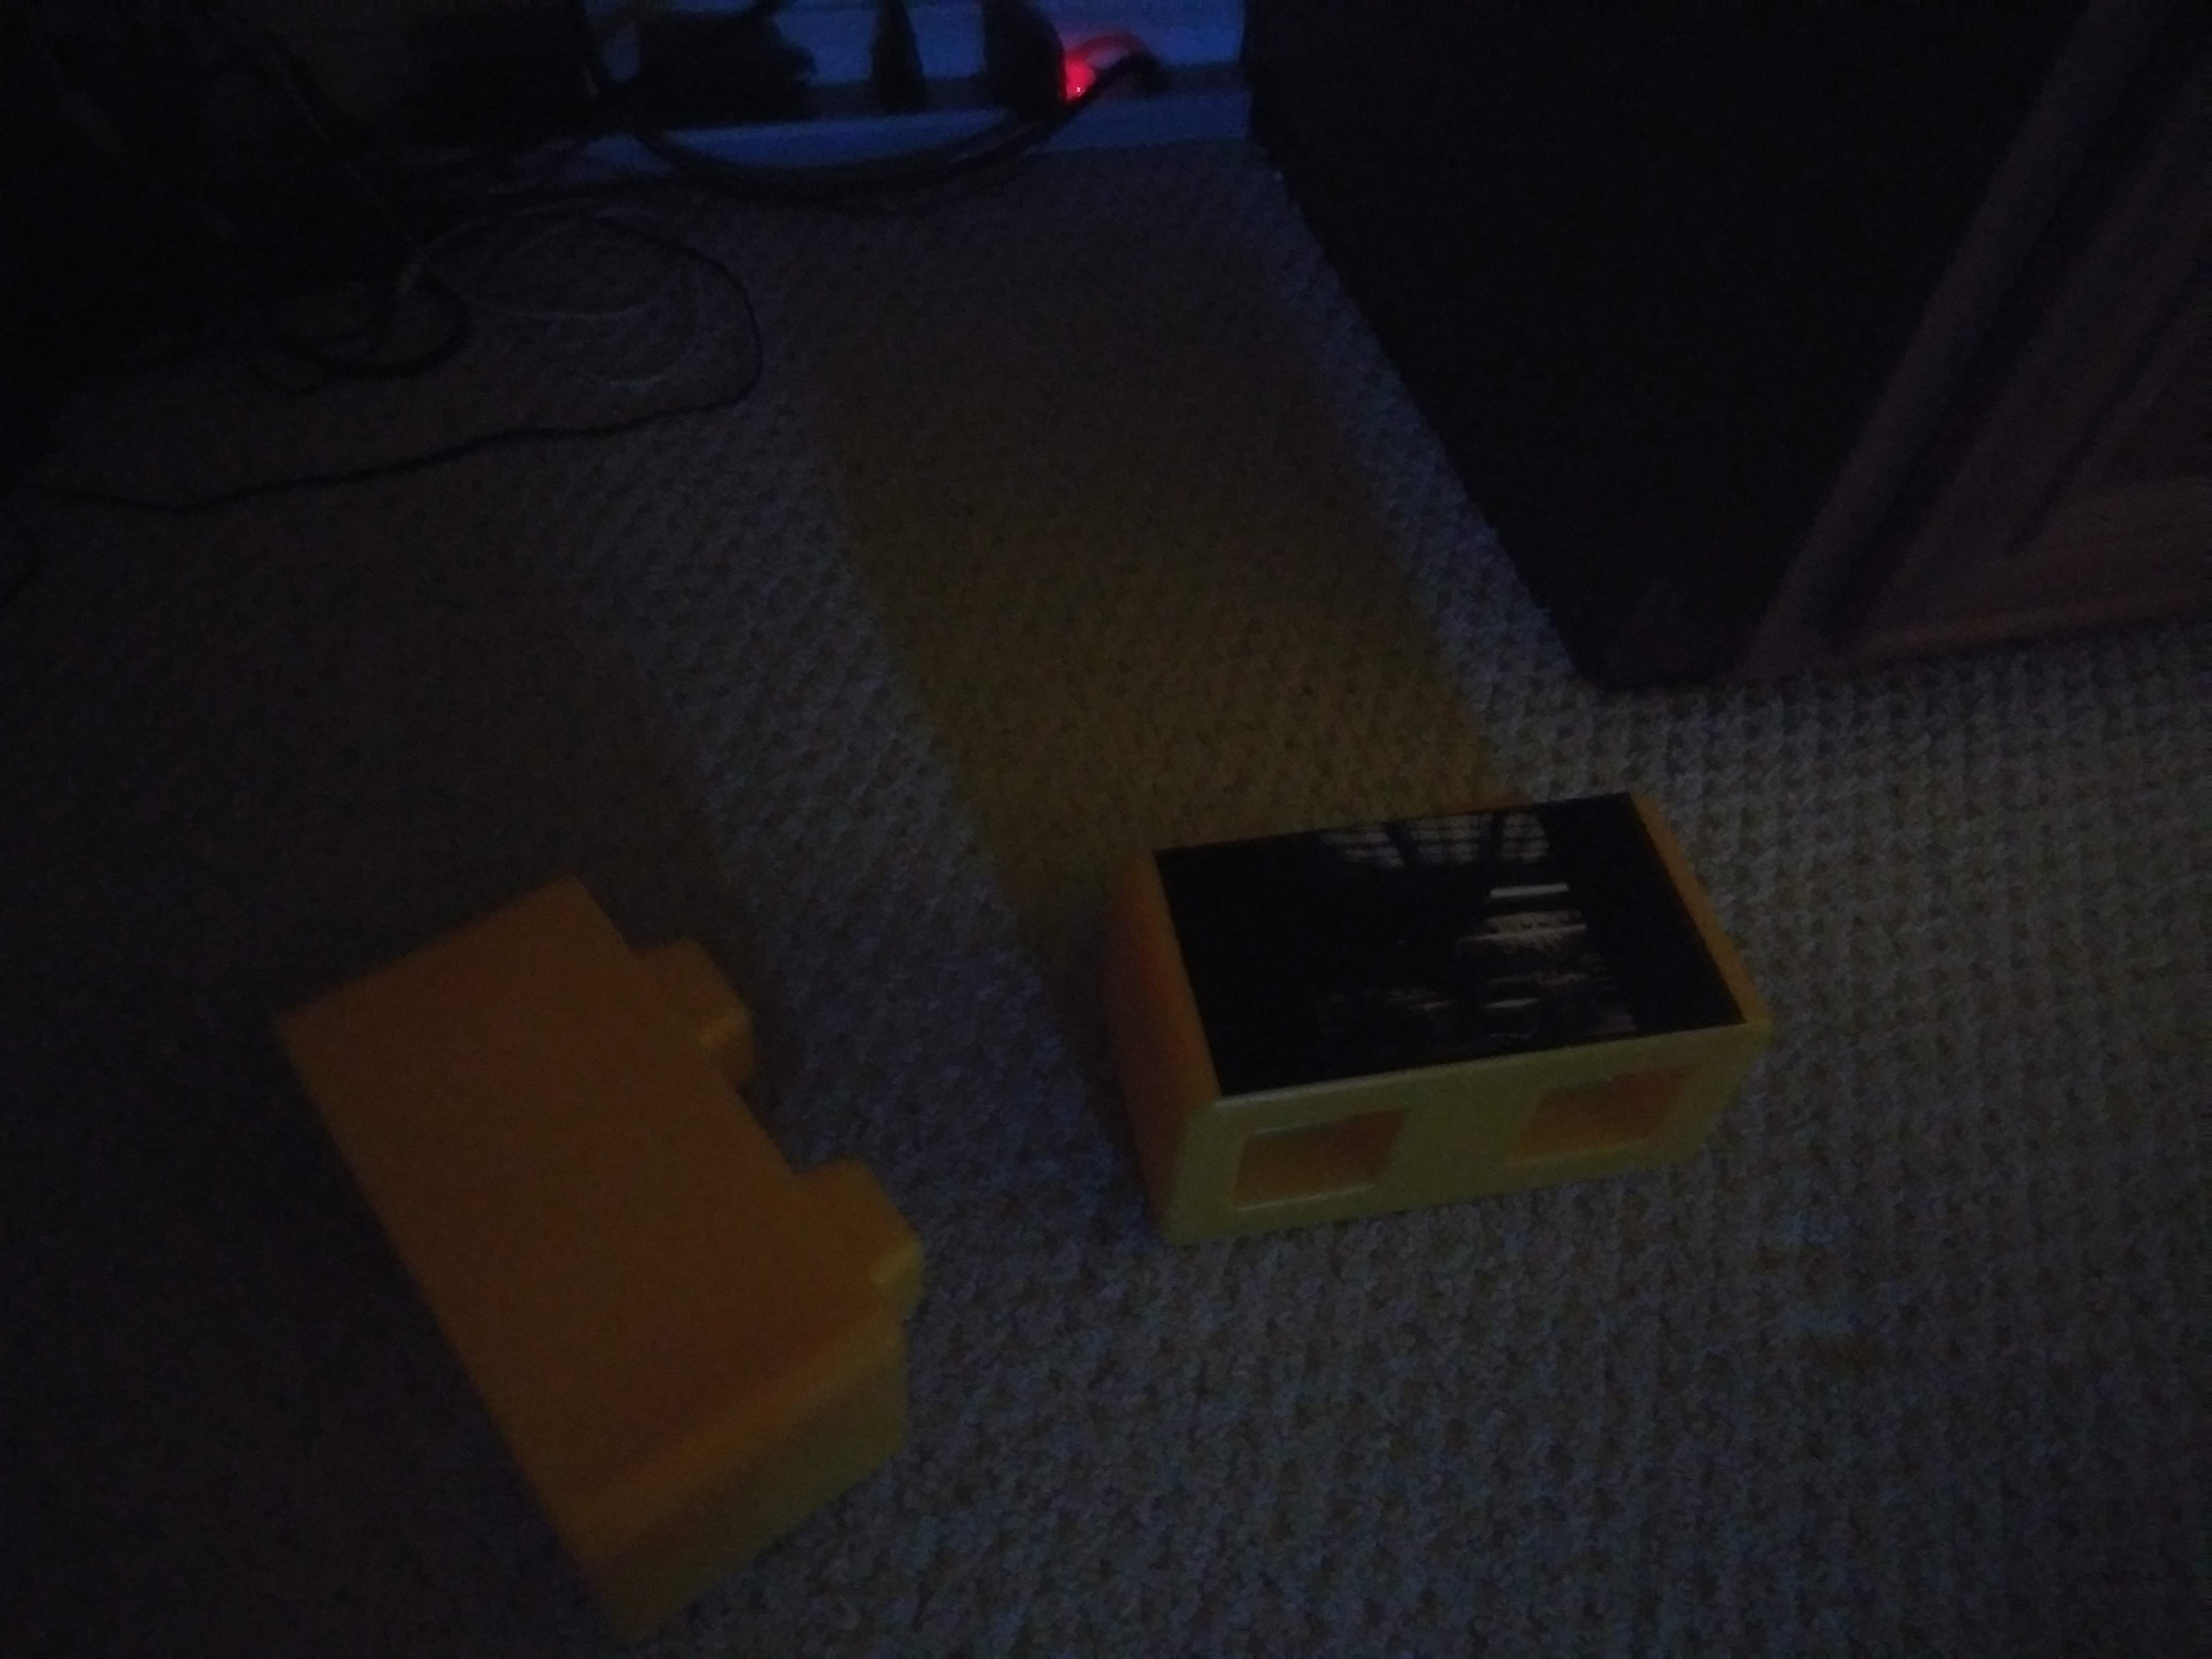skystone: (1127, 831, 1743, 1166)
stone: (319, 941, 906, 1476)
